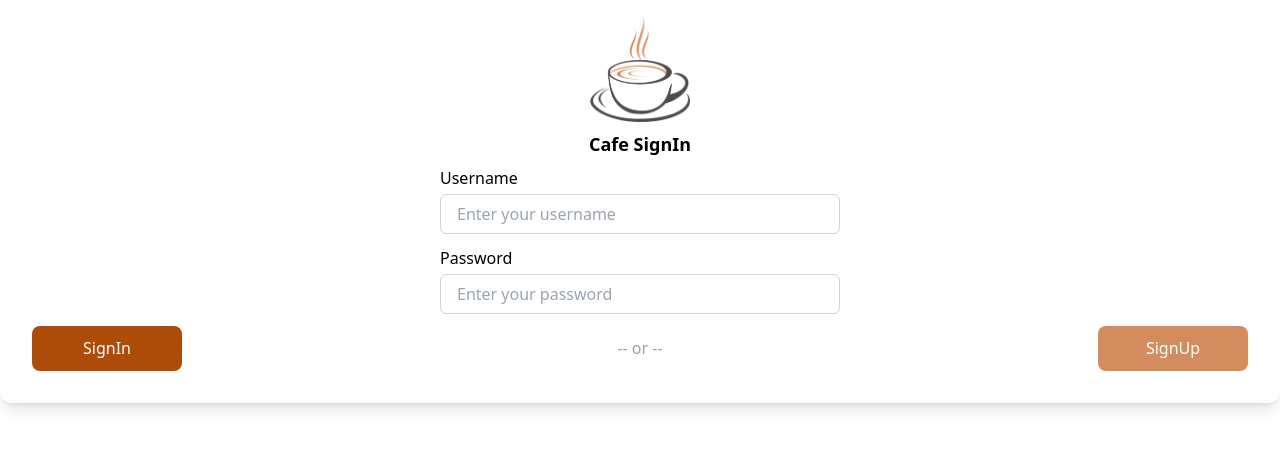
Test case: Test Cafe Login Page › shows email validation error
In the field with placeholder "Enter your username": (640, 214) [440,194,840,234], type "wrongemail"
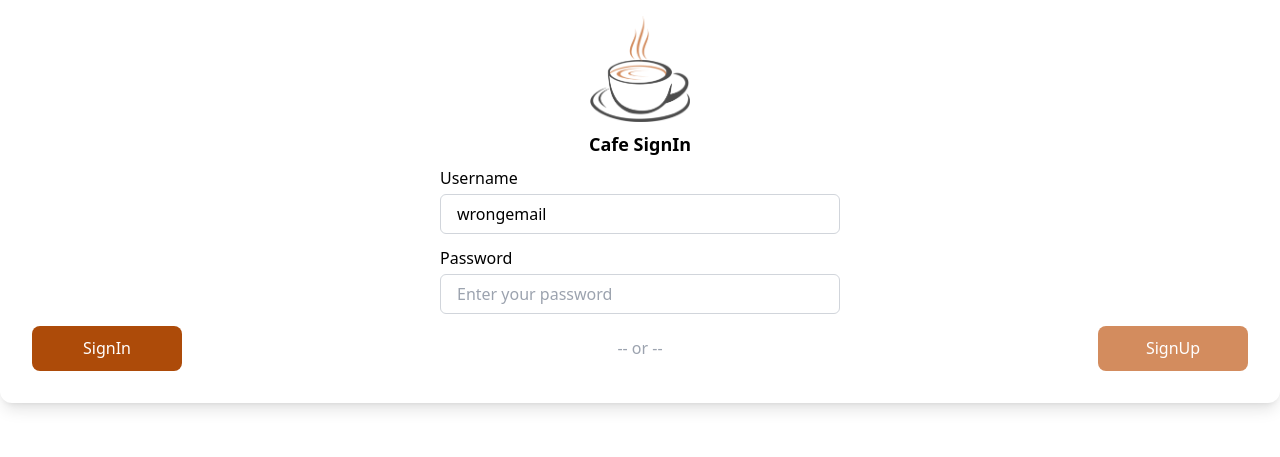
Leave the field with placeholder "Enter your username", box [440,194,840,234]
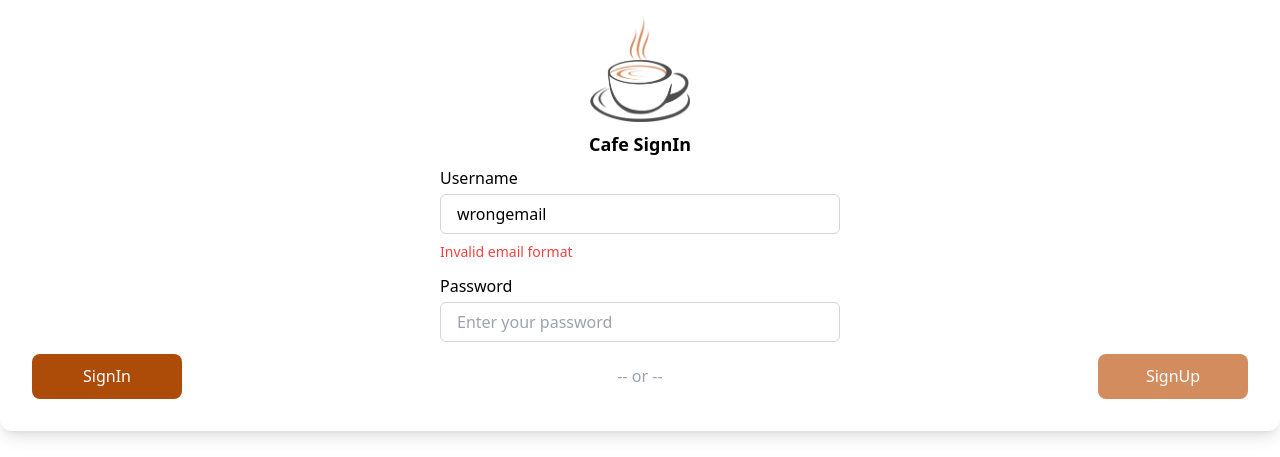
Now the text "Invalid email format" is shown, box [440,242,573,261]
